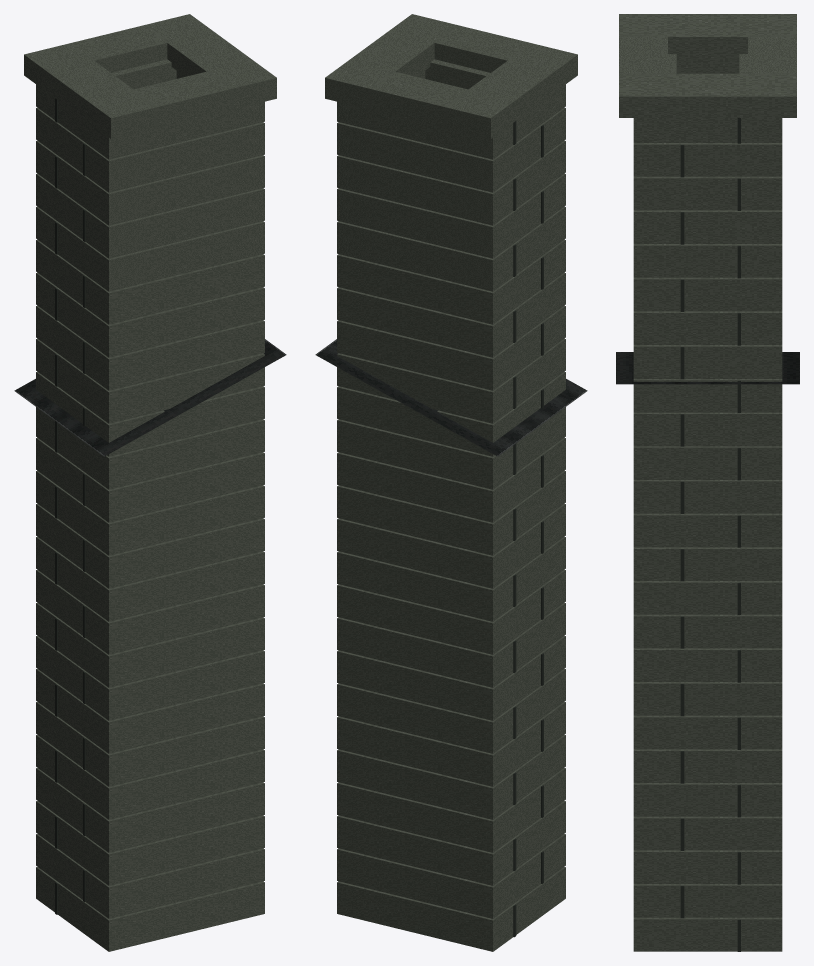
File: level_camp_chimney.glb
The picture shows the model from 3 angles, left to right: view 1: azimuth 30°, elevation 25°; view 2: azimuth 150°, elevation 25°; view 3: azimuth 270°, elevation 25°; orthographic projection. The views are drawn at different scales.
Visible parts, largest first — view 1: level_camp_chimney; view 2: level_camp_chimney; view 3: level_camp_chimney.
Part boxes in pixels (box(x1,y1,x2,y2)): level_camp_chimney: box(14, 14, 286, 951); level_camp_chimney: box(315, 14, 587, 951); level_camp_chimney: box(616, 14, 799, 951).
Size of the model in its own units: 1.1 by 4.84 by 0.94.
Materials: 3 (3 with a texture image).
